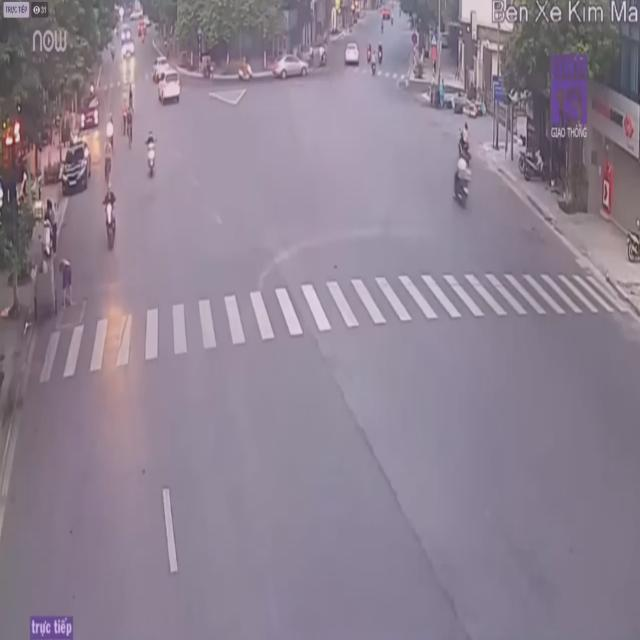car: (274, 50, 308, 81), (156, 68, 180, 104)
motorbike: (452, 150, 472, 209), (101, 187, 119, 248), (144, 130, 158, 181), (458, 120, 471, 168)
